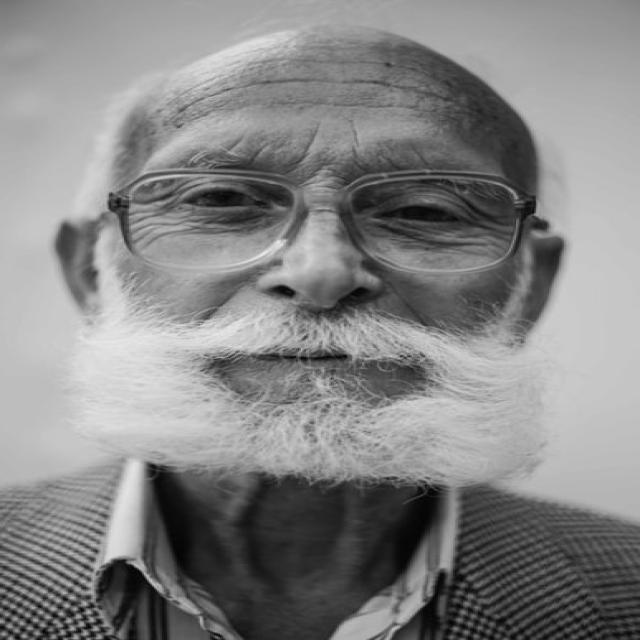Wrinkles: (289, 80, 479, 114), (296, 123, 318, 163), (258, 58, 354, 64), (190, 75, 225, 90), (355, 62, 417, 70), (412, 148, 429, 166), (282, 103, 340, 107), (250, 146, 264, 161), (351, 121, 358, 148), (397, 106, 423, 110), (179, 90, 190, 95)
